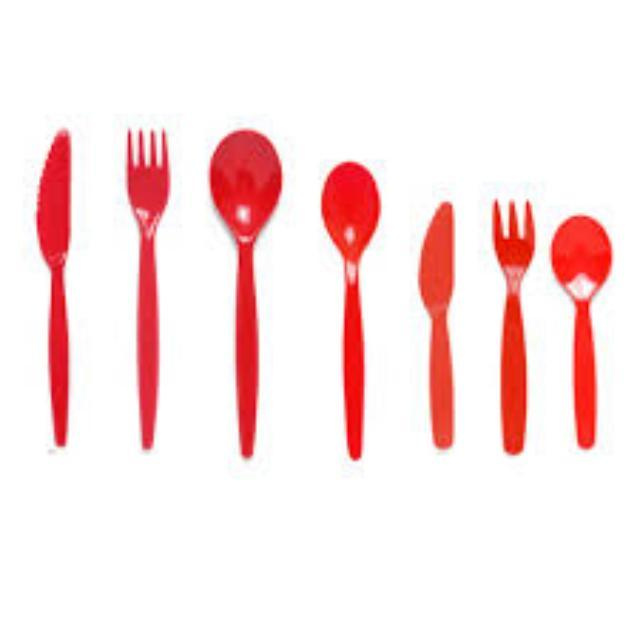Plastico descartable: (208, 129, 285, 461), (321, 161, 381, 462), (125, 127, 172, 453), (549, 215, 613, 451), (490, 198, 539, 462), (34, 127, 73, 454), (417, 202, 463, 454)
